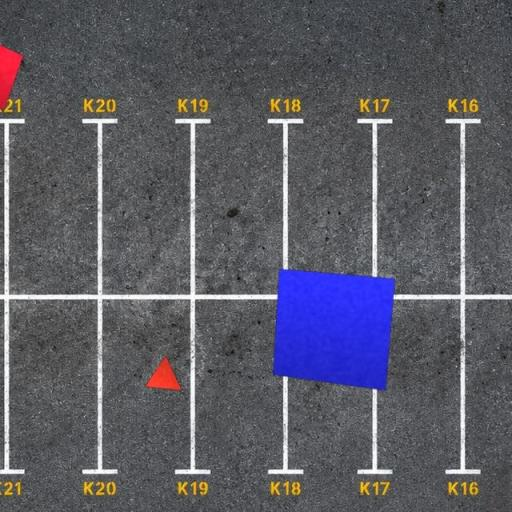BLUE_SQUARE: (272, 268, 396, 391)
RED_SQUARE: (0, 34, 24, 110)
